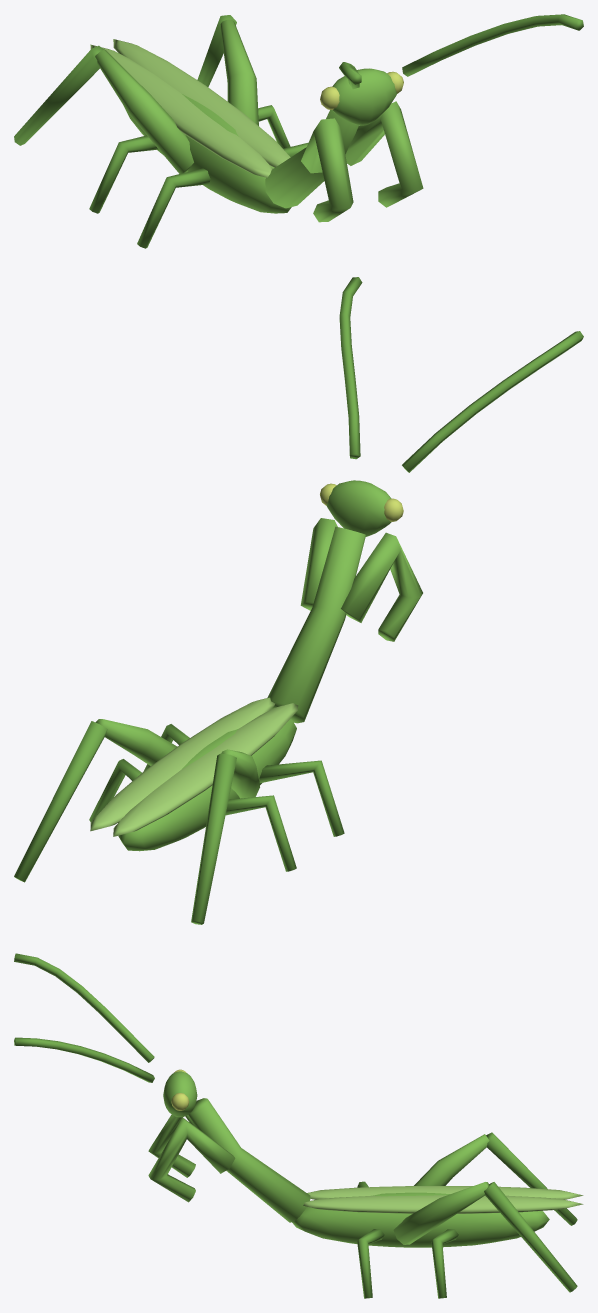
File: bug-mantis.glb
3 views of the same model, one above another, from view 1: azimuth 30°, elevation 25°; view 2: azimuth 150°, elevation 25°; view 3: azimuth 270°, elevation 25° (orthographic). The views are drawn at different scales.
Visible parts, largest first — view 1: bug; view 2: bug; view 3: bug.
Boxes of the visible parts, <box> form: bug: <box>14,14,583,248</box>; bug: <box>14,277,583,924</box>; bug: <box>14,953,583,1298</box>.
Bounding box in the file's own units: 0.1313 × 0.1857 × 0.3599.
